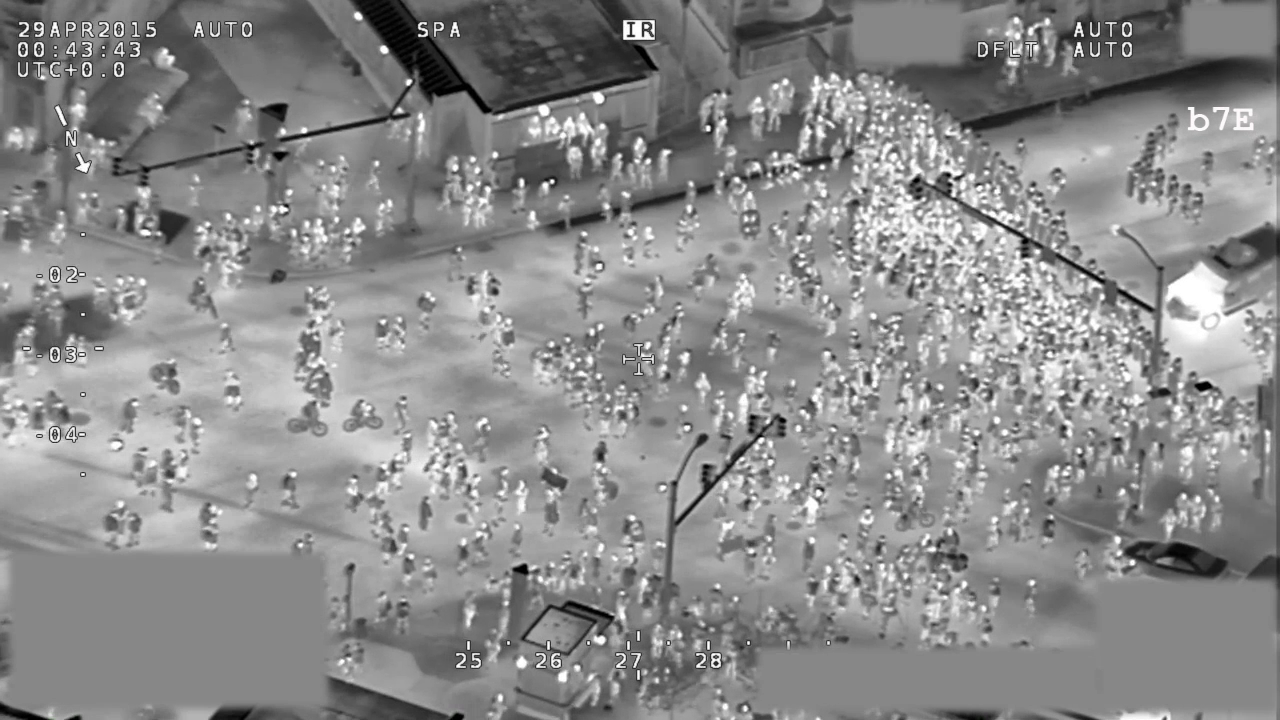vehicle: (1160, 221, 1280, 334), (1111, 526, 1236, 579)
